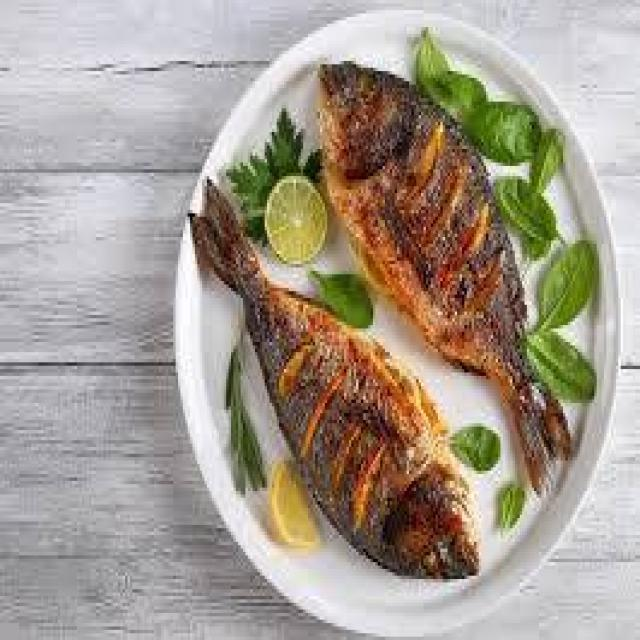Peixe: (187, 173, 478, 579), (312, 58, 572, 494)
